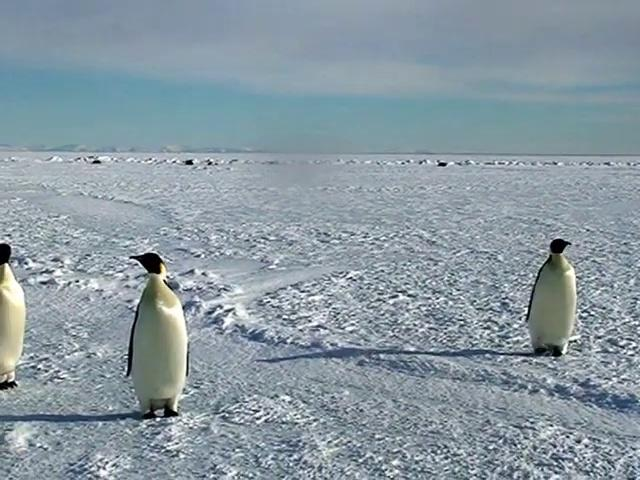animal: (127, 254, 190, 419)
